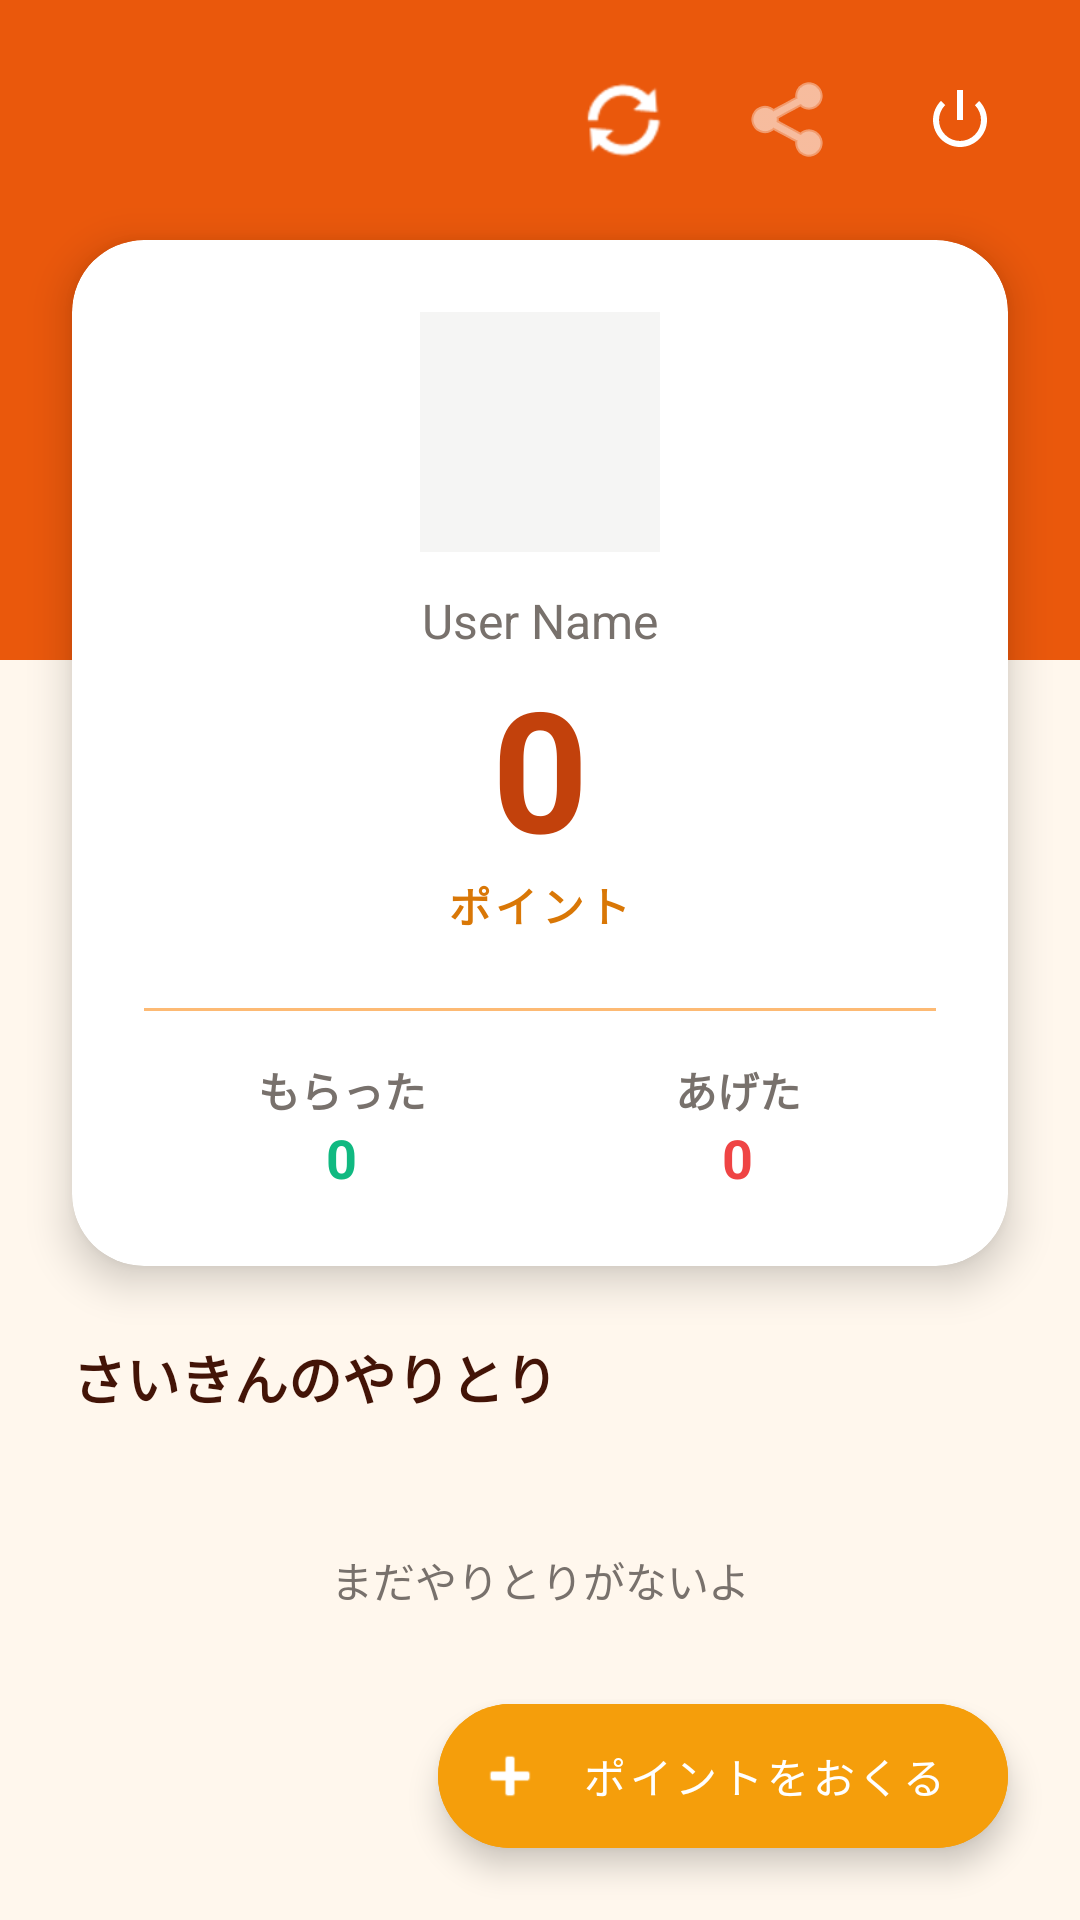

Screen size 1080*1920. Icon name, then its box in pixels as {"left": x1, "top": y1, "right": x2, "bottom": y2}:
lock power off: {"left": 933, "top": 90, "right": 987, "bottom": 147}
Refresh Data: {"left": 587, "top": 84, "right": 661, "bottom": 156}
